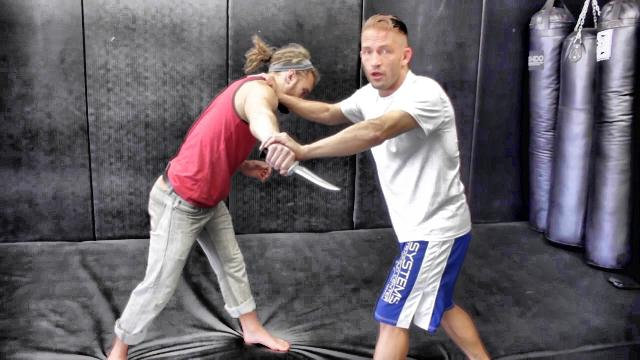knife: (253, 141, 347, 199)
